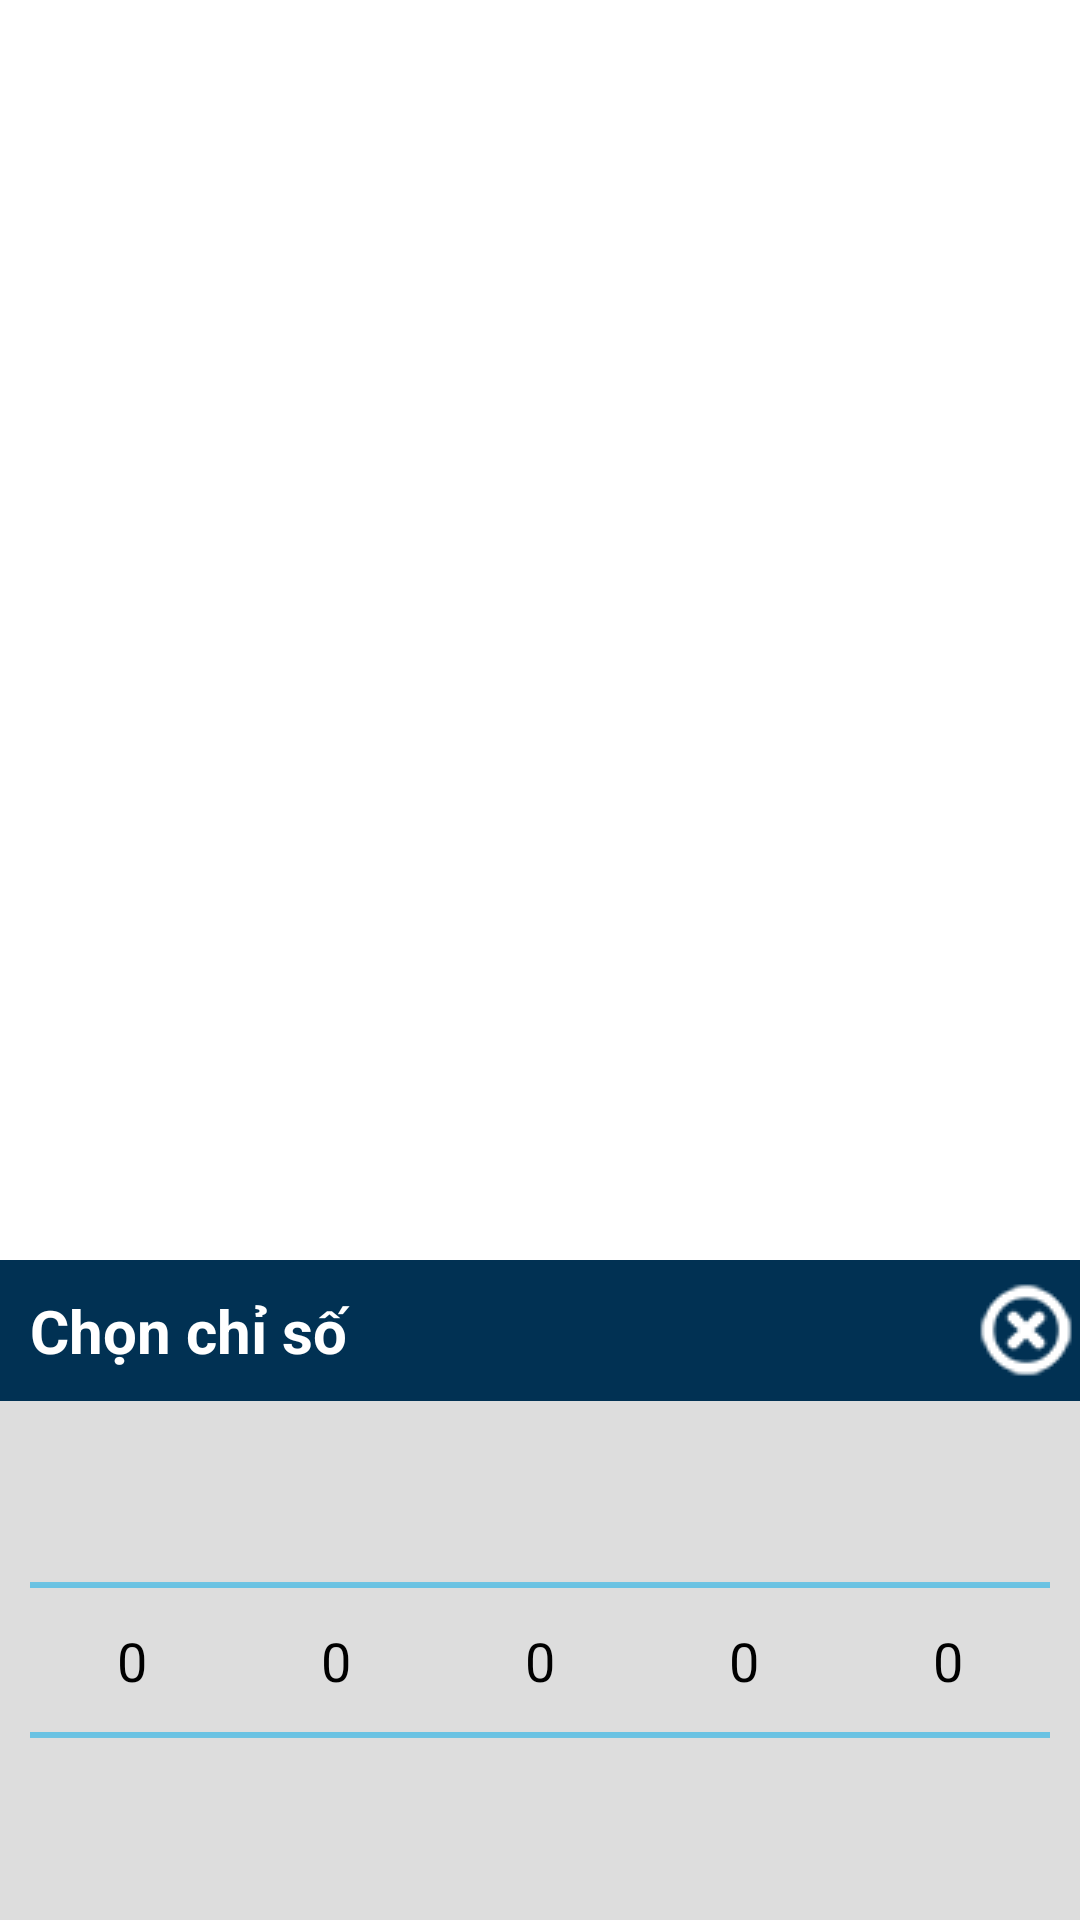

Where icons sit on this 1080w x 1920h app screen, as (x1, y1, x2, y2):
gcs close: (980, 1284, 1072, 1376)
